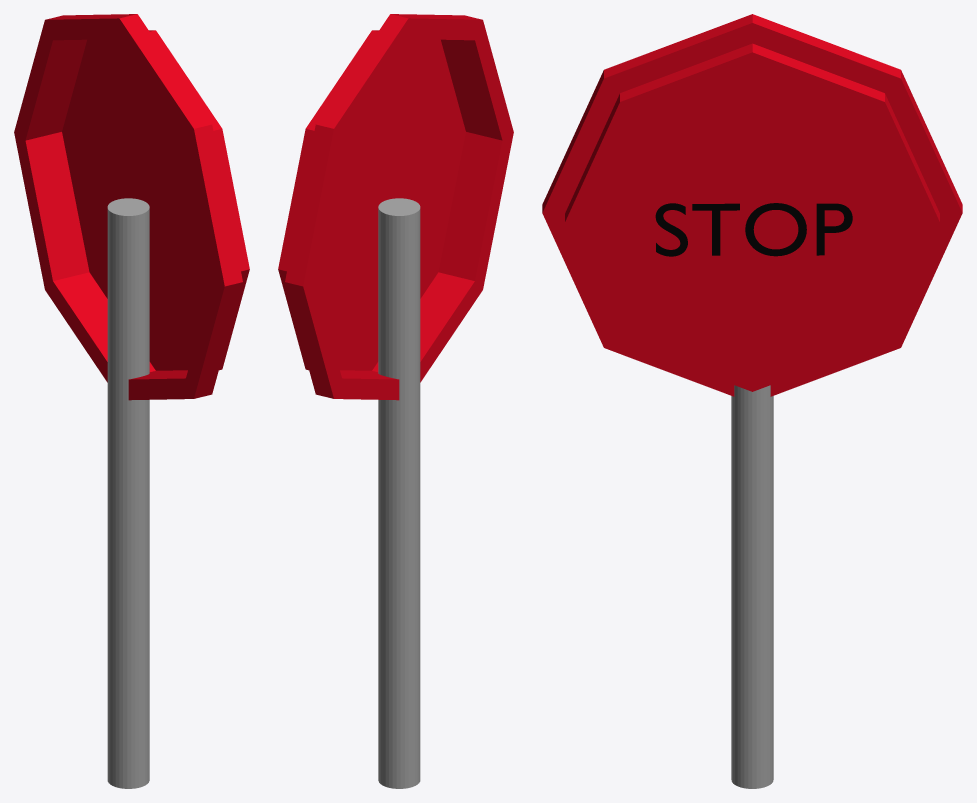
The model's file is STOP-SIGN.fbx.
3 views of the same model, side by side, from view 1: azimuth 30°, elevation 25°; view 2: azimuth 150°, elevation 25°; view 3: azimuth 270°, elevation 25° (orthographic).
Parts seen in each view (by area): view 1: Cylinder.001; view 2: Cylinder.001; view 3: Cylinder.001, Text.
Part boxes in pixels (x1,y1,x2,y2): Cylinder.001: (14,14,249,788); Cylinder.001: (278,14,513,788); Cylinder.001: (542,14,962,788); Text: (655,203,852,256).
Size of the model in its own units: 2.75 by 40 by 20.
